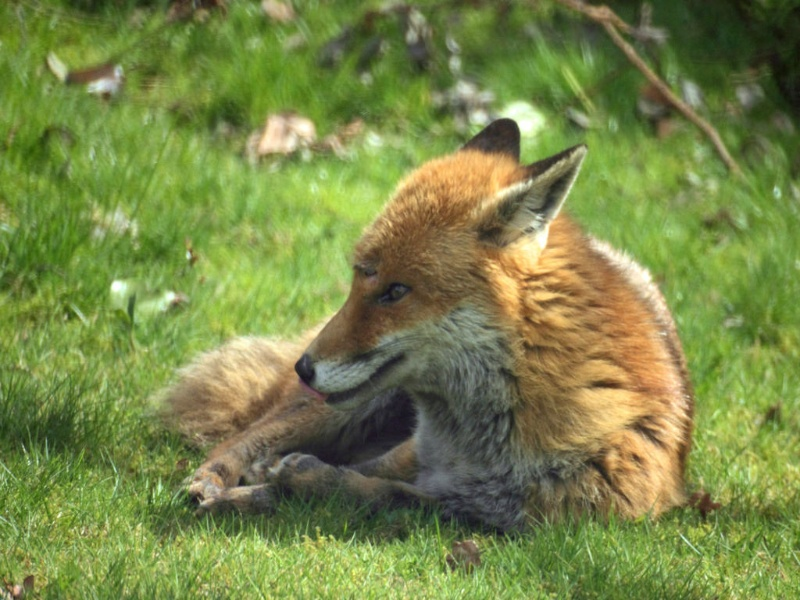fox: (153, 123, 707, 544)
